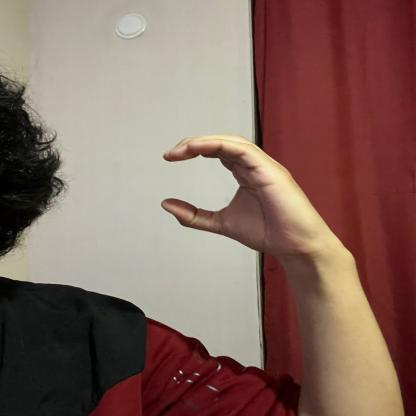C: (154, 127, 317, 256)
